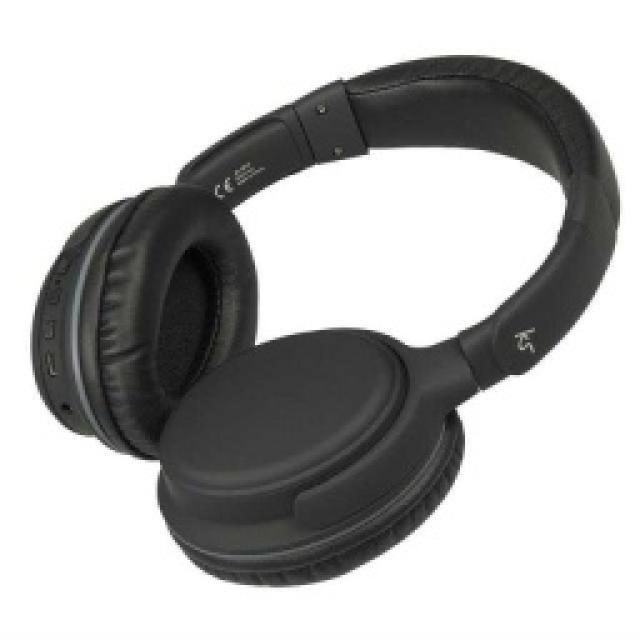headphones: (28, 50, 620, 585)
